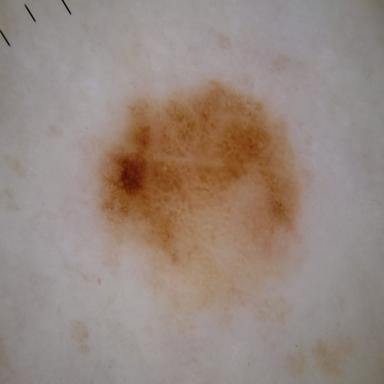nevus: (98, 80, 299, 309)
